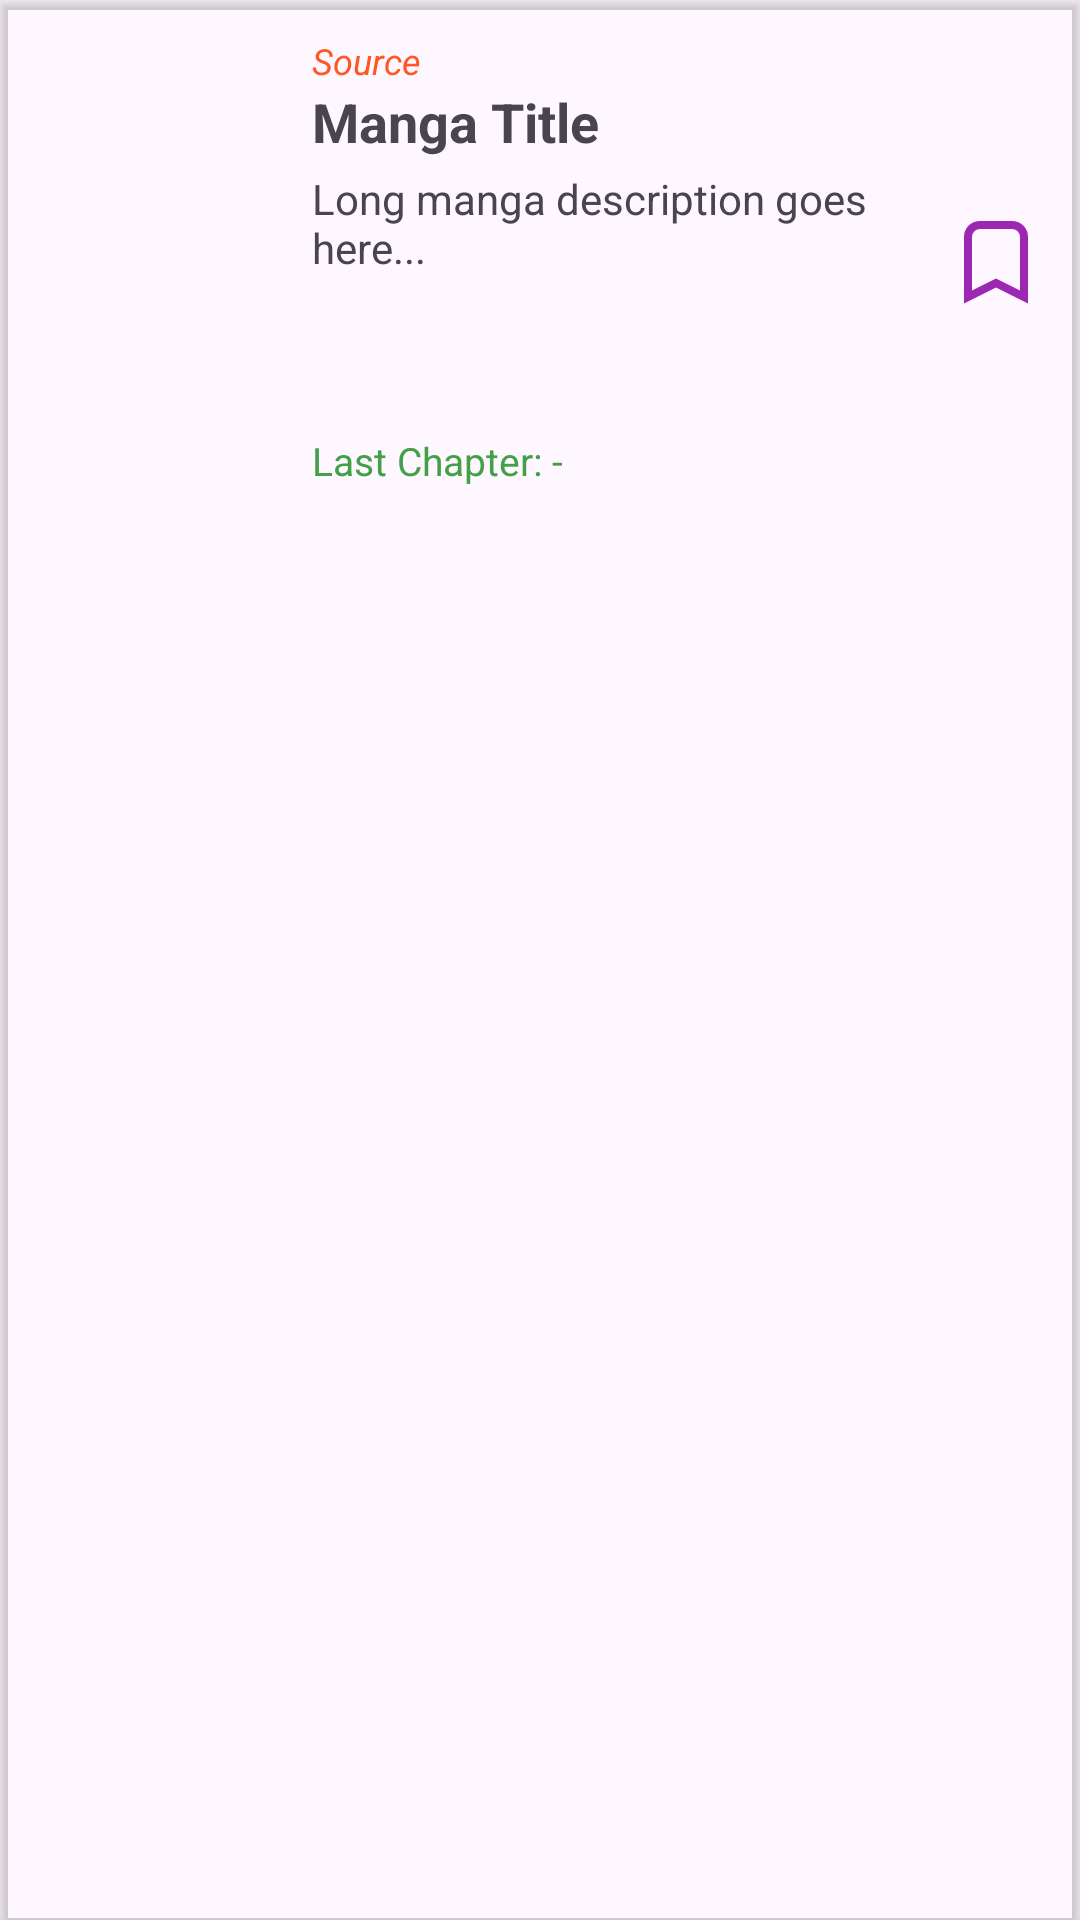

Named icons in this screenshot (1080px×1920px) and their centers, [x,y]:
Bookmark: [996,262]
